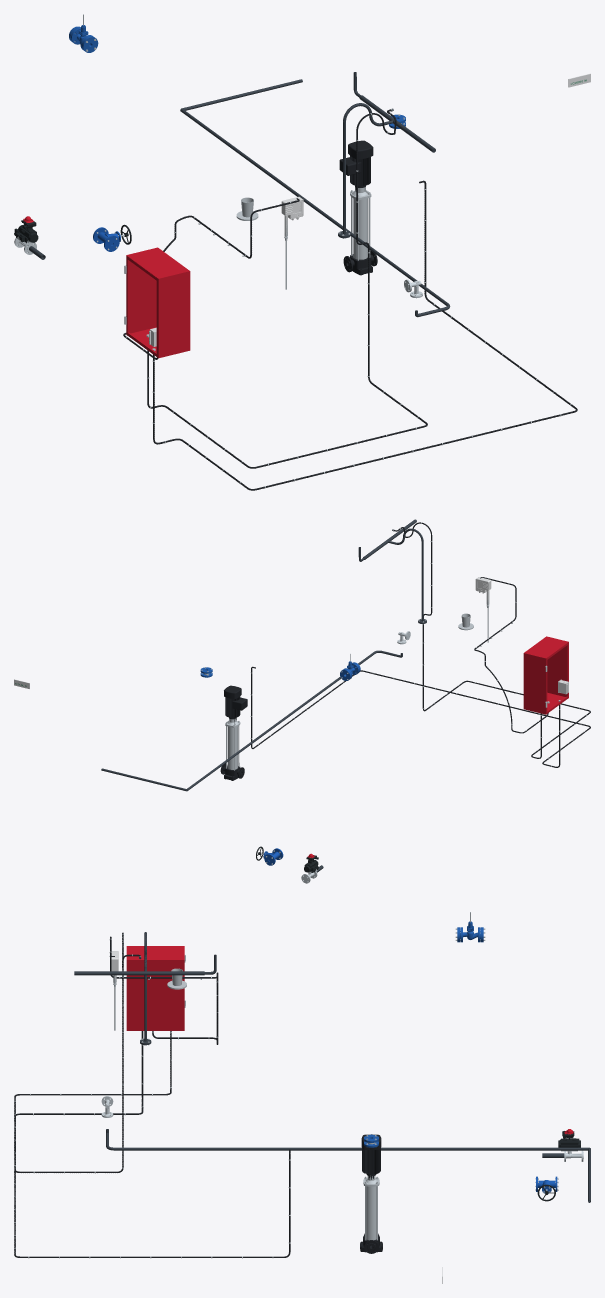
3 renders of one model, top to bottom at view 1: azimuth 30°, elevation 25°; view 2: azimuth 150°, elevation 25°; view 3: azimuth 270°, elevation 25°, orthographic. The views are drawn at different scales.
Parts seen in each view (by area): view 1: control_cabinet / control_cabinet_0.npz, wiring_pump_1 / black, wiring_pressure_switch_3 / black, tds_common / dark, pressure_header / dark, pump_2 CAD solid 15, pump_2 CAD solid 2, bcv7432 / bcv7432_0.npz, lcs600 CAD solid 0, drain_isolation_2 / drain_isolation_2_0.npz; view 2: control_cabinet / control_cabinet_0.npz, wiring_pump_1 / black, wiring_pressure_switch_3 / black, pressure_header / dark, tds_common / dark, pump_2 CAD solid 15; view 3: control_cabinet / control_cabinet_0.npz, tds_common / dark, wiring_pump_1 / black, wiring_pressure_switch_3 / black, pressure_header / dark, pump_2 CAD solid 15, wiring_lcs600 / black, pump_2 CAD solid 2, bcv7432 / bcv7432_0.npz.
Part boxes in pixels (bbox=[...]): control_cabinet / control_cabinet_0.npz: bbox=[124, 247, 190, 358]; wiring_pump_1 / black: bbox=[153, 180, 577, 490]; wiring_pressure_switch_3 / black: bbox=[147, 109, 427, 468]; tds_common / dark: bbox=[180, 108, 450, 317]; pressure_header / dark: bbox=[338, 72, 435, 238]; pump_2 CAD solid 15: bbox=[339, 140, 373, 186]; pump_2 CAD solid 2: bbox=[353, 198, 367, 259]; bcv7432 / bcv7432_0.npz: bbox=[14, 216, 38, 254]; lcs600 CAD solid 0: bbox=[281, 196, 303, 289]; drain_isolation_2 / drain_isolation_2_0.npz: bbox=[93, 224, 131, 251]; control_cabinet / control_cabinet_0.npz: bbox=[523, 636, 568, 714]; wiring_pump_1 / black: bbox=[251, 666, 590, 767]; wiring_pressure_switch_3 / black: bbox=[393, 522, 590, 758]; pressure_header / dark: bbox=[358, 519, 426, 623]; tds_common / dark: bbox=[186, 650, 402, 791]; pump_2 CAD solid 15: bbox=[224, 685, 247, 718]; control_cabinet / control_cabinet_0.npz: bbox=[126, 946, 185, 1030]; tds_common / dark: bbox=[106, 1129, 589, 1150]; wiring_pump_1 / black: bbox=[14, 1031, 290, 1257]; wiring_pressure_switch_3 / black: bbox=[14, 932, 171, 1172]; pressure_header / dark: bbox=[74, 932, 216, 1045]; pump_2 CAD solid 15: bbox=[361, 1134, 381, 1175]; wiring_lcs600 / black: bbox=[110, 936, 218, 1044]; pump_2 CAD solid 2: bbox=[366, 1186, 376, 1240]; bcv7432 / bcv7432_0.npz: bbox=[558, 1129, 583, 1161].
Bounding box in the file's own units: 5.8 × 2.74 × 5.29.
